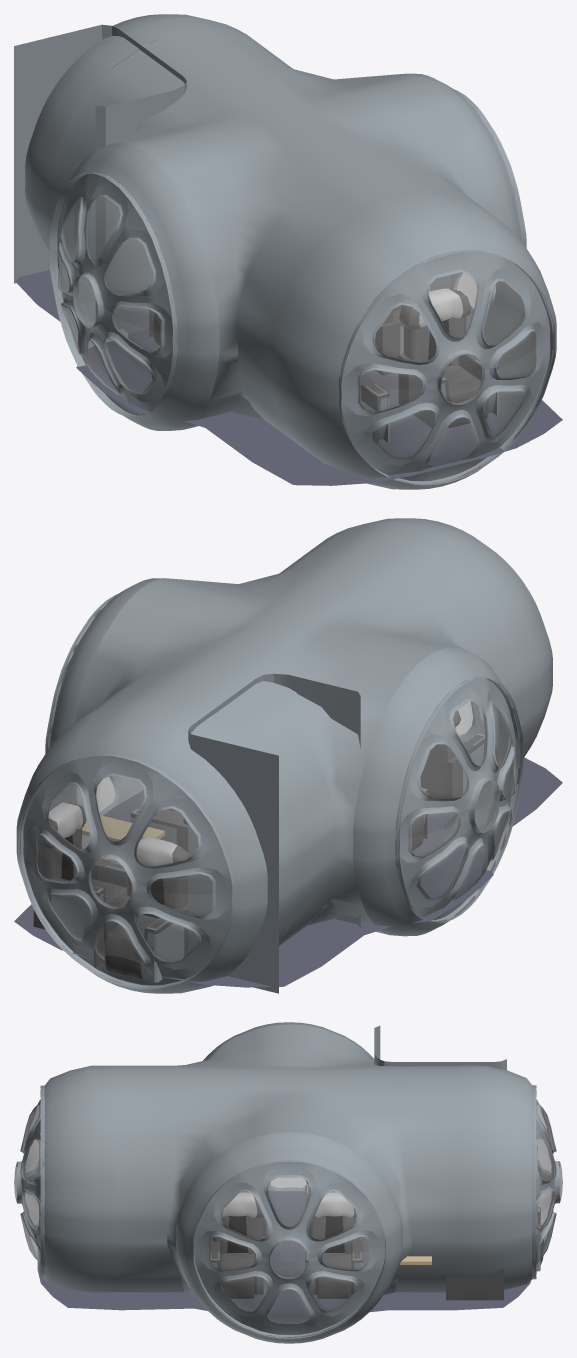
Rendered from WorldViewIntereior.FBX.
3 renders of one model, top to bottom at view 1: azimuth 30°, elevation 25°; view 2: azimuth 150°, elevation 25°; view 3: azimuth 270°, elevation 25°, orthographic. The views are drawn at different scales.
Parts seen in each view (by area): view 1: Inner_hull, window_low1_03, window_low1_01, bathroom_wall, floor, Chair_008, window_low1_02, Chair_004, Chair_007; view 2: Inner_hull, window_low1_04, window_low1_01, bathroom_wall, floor, Chair_006, Chair_005, Chair_007, window_low1_02, Chair_003, window_low1_03, Tabeltop; view 3: Inner_hull, window_low1_02, floor, Chair_003, Chair_004, window_low1_04, window_low1_03, Chair_005, bathroom_wall, window_low1_01.
Part boxes in pixels (<box>): Inner_hull: <box>25,14,556,489</box>; window_low1_03: <box>338,250,553,484</box>; window_low1_01: <box>52,173,177,416</box>; bathroom_wall: <box>14,24,186,333</box>; floor: <box>15,259,562,485</box>; Chair_008: <box>398,288,498,427</box>; window_low1_02: <box>430,95,524,313</box>; Chair_004: <box>375,305,403,375</box>; Chair_007: <box>361,374,389,442</box>; Inner_hull: <box>16,518,552,993</box>; window_low1_04: <box>19,754,234,988</box>; window_low1_01: <box>395,677,520,921</box>; bathroom_wall: <box>188,673,360,993</box>; floor: <box>14,742,562,987</box>; Chair_006: <box>93,837,188,982</box>; Chair_005: <box>33,802,126,938</box>; Chair_007: <box>420,710,484,798</box>; window_low1_02: <box>48,602,143,815</box>; Chair_003: <box>130,808,188,851</box>; window_low1_03: <box>456,701,484,741</box>; Tabeltop: <box>82,815,164,840</box>; Inner_hull: <box>40,1022,536,1343</box>; window_low1_02: <box>193,1160,385,1337</box>; floor: <box>37,1188,531,1323</box>; Chair_003: <box>305,1192,363,1298</box>; Chair_004: <box>210,1192,266,1298</box>; window_low1_04: <box>532,1085,562,1279</box>; window_low1_03: <box>14,1085,44,1278</box>; Chair_005: <box>446,1268,503,1300</box>; bathroom_wall: <box>374,1025,506,1070</box>; window_low1_01: <box>268,1177,308,1191</box>.
Bounding box in the file's own units: 36.65 × 23.31 × 54.22.
